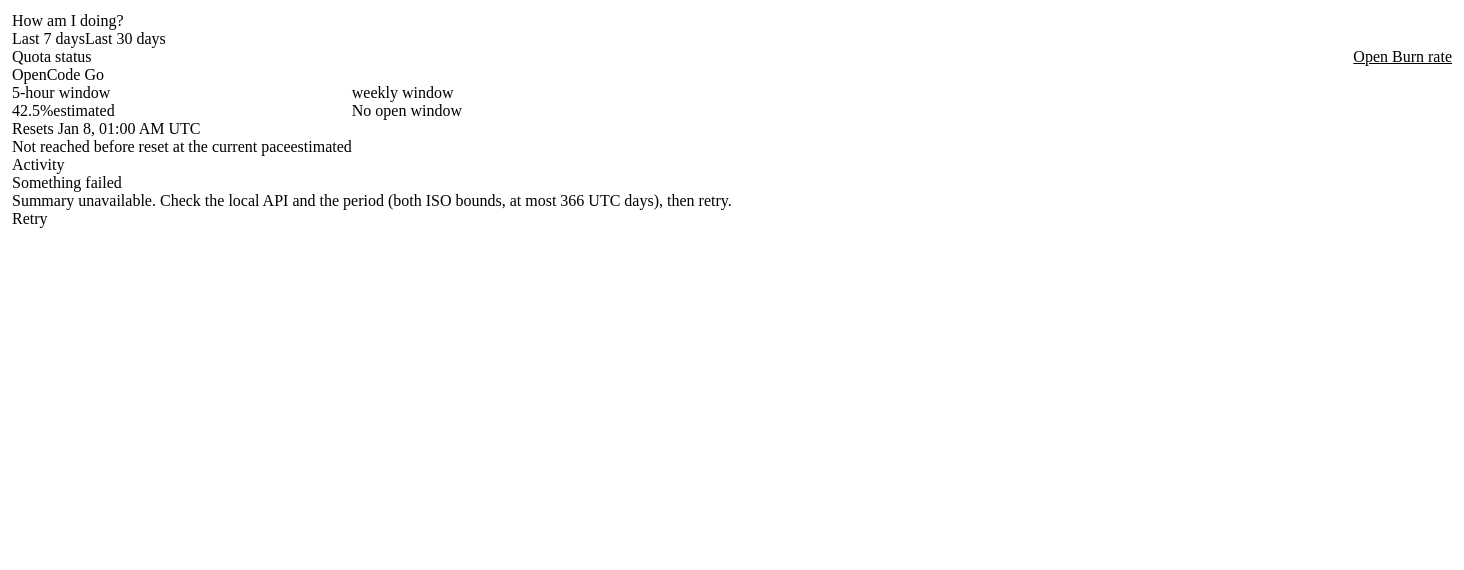
Summary › uses safe catalog errors, retry, and labels unknown costs rather than zero
Expected: the message shows "Summary unavailable. Check the local API and the period (both ISO bounds, at most 366 UTC days), then retry.", [12,192,732,209]
What coordinates should you click on to do the following:
click the button "Retry"
I would click on:
 (30, 219)
Its box is [12,210,48,228].
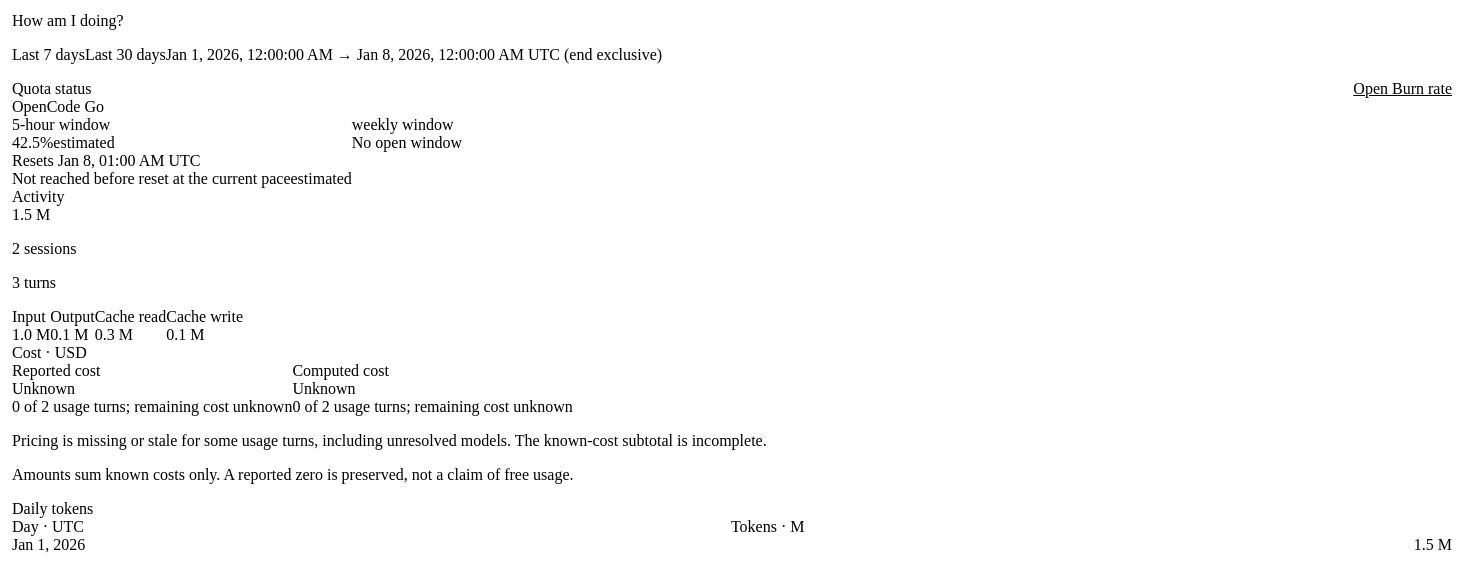
Result: the text "2 sessions" is shown at [12,240,76,257]
Result: the text "Unknown" is shown 2 times at [12,380,75,397]; [292,380,356,397]
